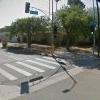Crosswalk: (7, 51, 65, 79)
